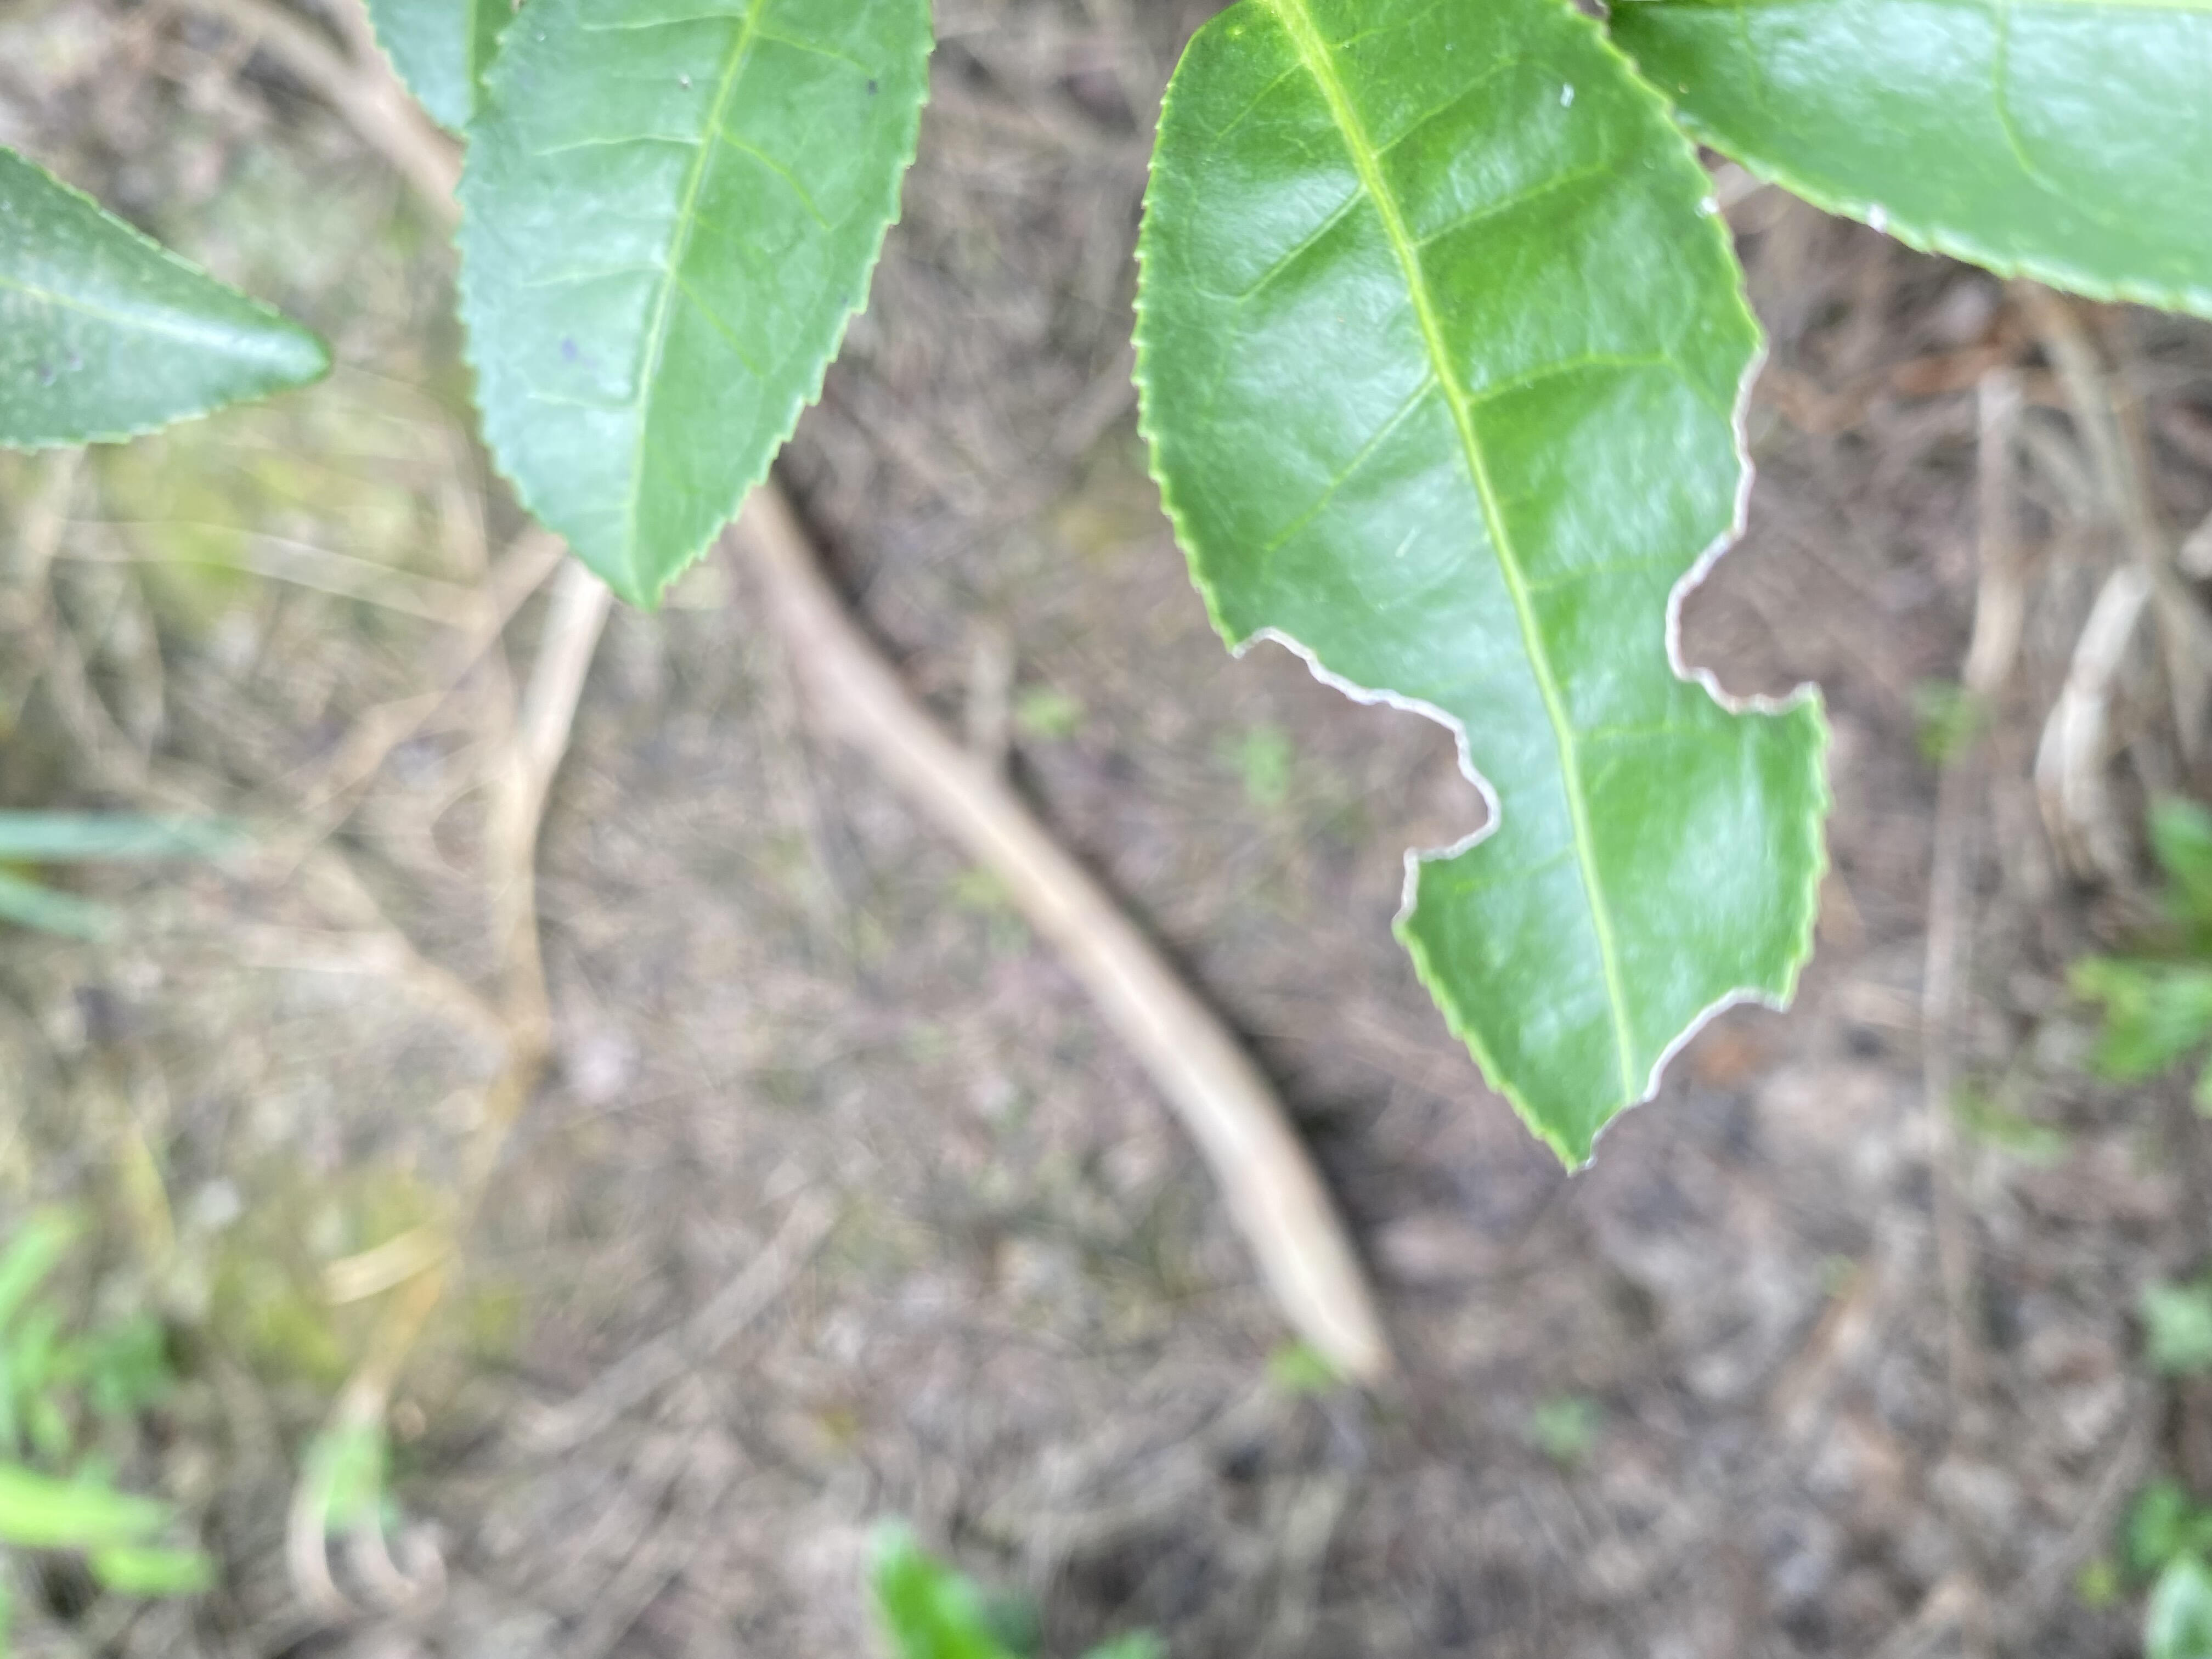chihuo_high: (1125, 3, 1831, 1178)
healthy: (451, 3, 939, 615)
